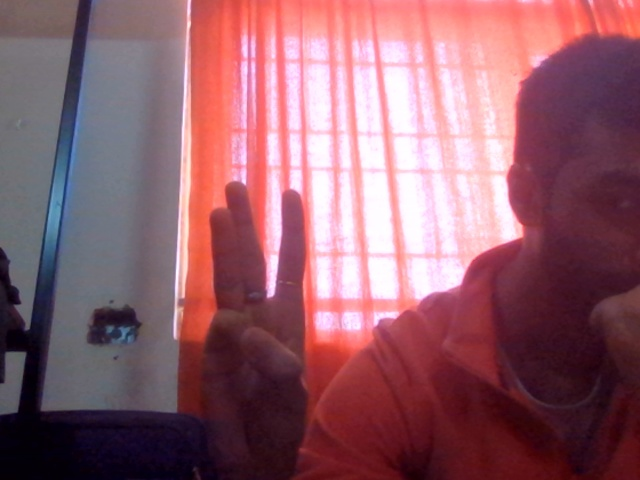W: (158, 168, 348, 480)
